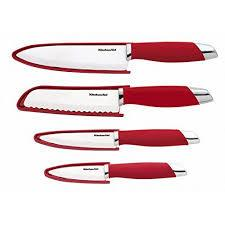Knife: (11, 40, 218, 73), (16, 84, 213, 117), (33, 128, 200, 150), (43, 161, 187, 184)
